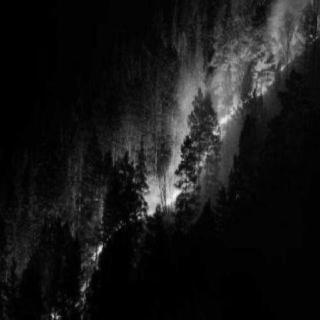Fire: (197, 5, 319, 109), (88, 235, 110, 263)
